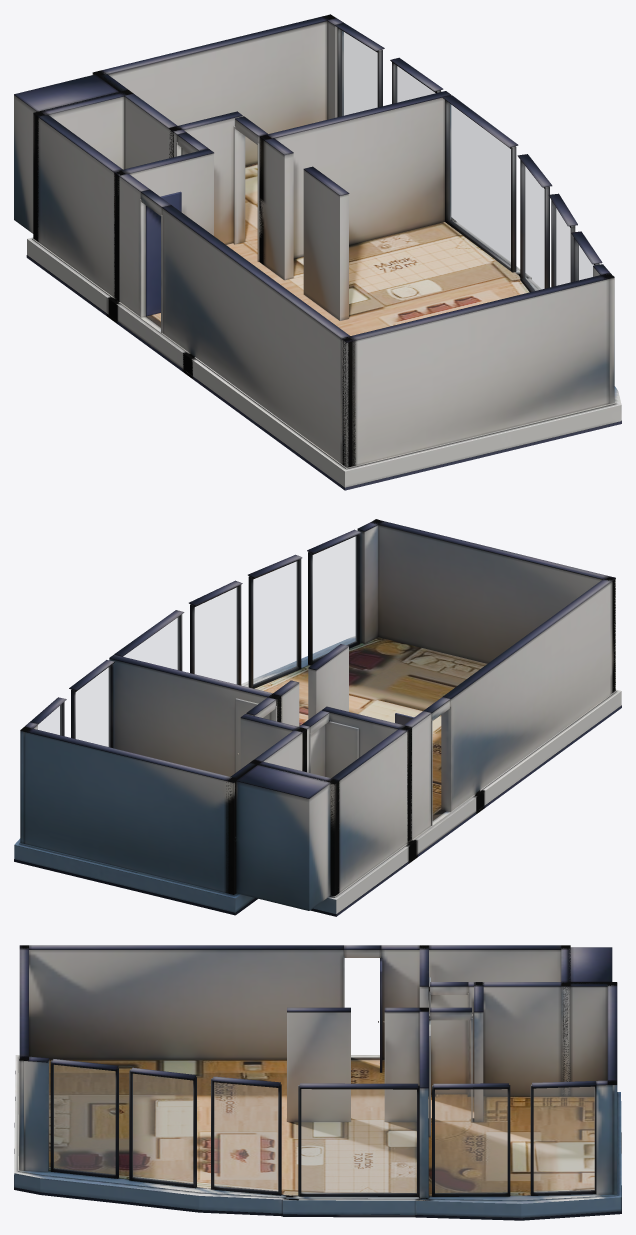
3 views of the same model, one above another, from view 1: azimuth 30°, elevation 25°; view 2: azimuth 150°, elevation 25°; view 3: azimuth 270°, elevation 25° (orthographic). The views are drawn at different scales.
Parts seen in each view (by area): view 1: plan, glass2_m, glass0_m, glass3_m, glass4_m, glass1_m; view 2: plan, glass4_m, glass5_m, glass3_m, glass1_m, glass2_m; view 3: plan, glass2_m, glass1_m, glass3_m, glass5_m, glass0_m, glass4_m.
Part boxes in pixels (x1,y1,x2,y2): plan: (14, 14, 621, 490); glass2_m: (448, 103, 510, 266); glass0_m: (340, 30, 377, 116); glass3_m: (523, 164, 544, 290); glass4_m: (554, 205, 570, 285); glass1_m: (395, 65, 434, 102); plan: (14, 519, 621, 916); glass4_m: (253, 561, 297, 684); glass5_m: (313, 536, 356, 660); glass3_m: (195, 587, 237, 684); glass1_m: (76, 667, 109, 746); glass2_m: (123, 617, 179, 669); plan: (14, 945, 621, 1220); glass2_m: (301, 1089, 416, 1193); glass1_m: (435, 1089, 507, 1193); glass3_m: (214, 1082, 277, 1191); glass5_m: (53, 1065, 115, 1174); glass0_m: (534, 1087, 594, 1192); glass4_m: (132, 1074, 192, 1184).
Bounding box in the file's own units: 6.56 × 2.62 × 11.29.
Materials: 2 (1 with a texture image).
